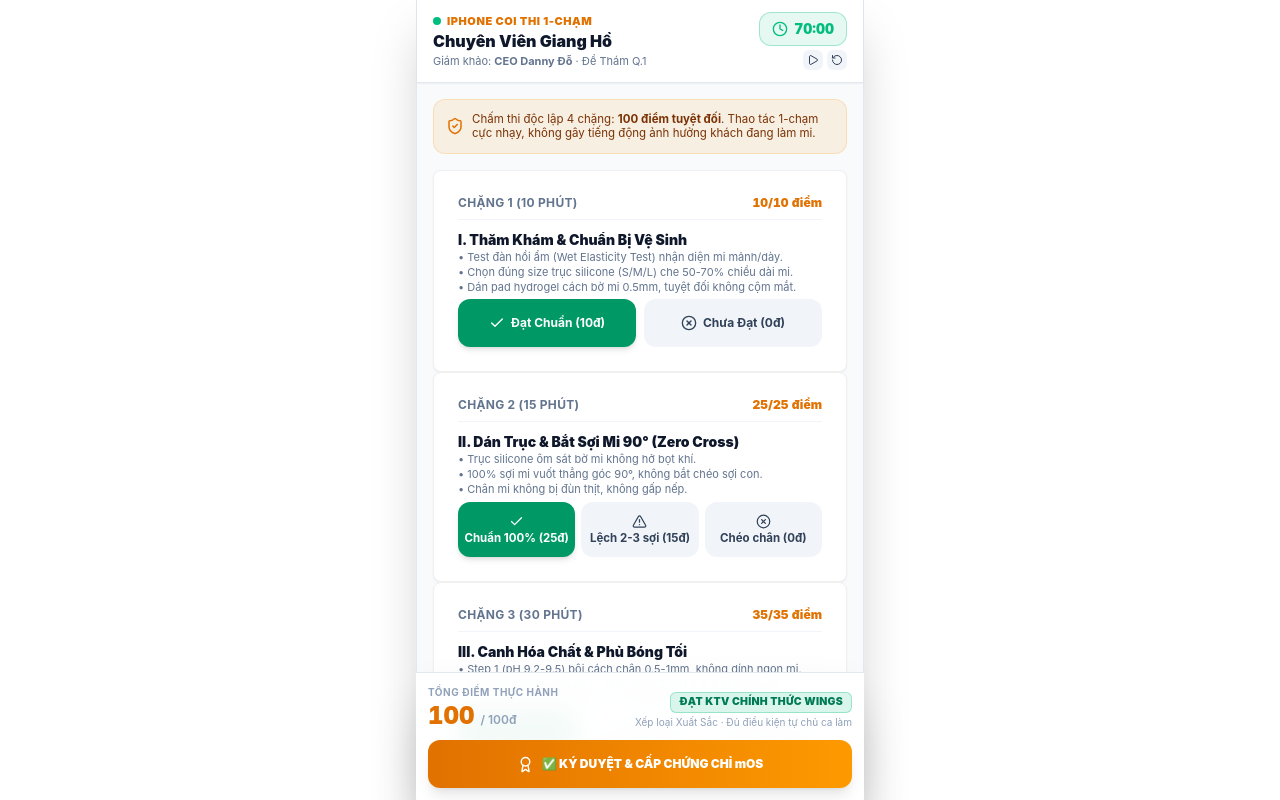
Test case: IphonePracticalExamRubric › allows CEO Danny to sign and approve certificate directly from iPhone view
Note: Click sign button on bottom bar
Click the button with test id "btn-iphone-sign-cert": {"x": 640, "y": 764} [428,740,852,788]
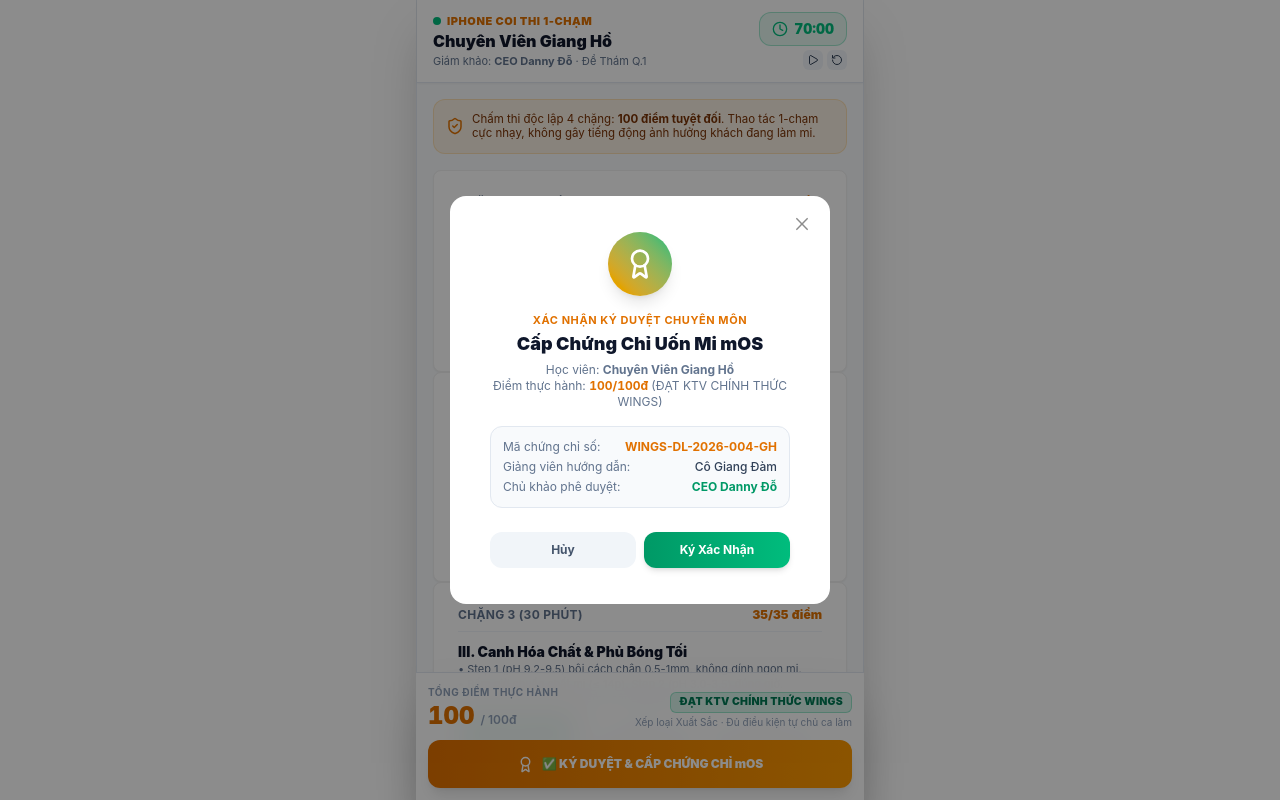
Expected: the text "Xác Nhận Ký Duyệt Chuyên Môn" is shown, [533,313,747,327]
Expected: the text "WINGS-DL-2026-004-GH" is shown, [625,439,777,455]
Note: Confirm sign
Click the button with test id "btn-confirm-sign": {"x": 717, "y": 550} [644,532,790,568]
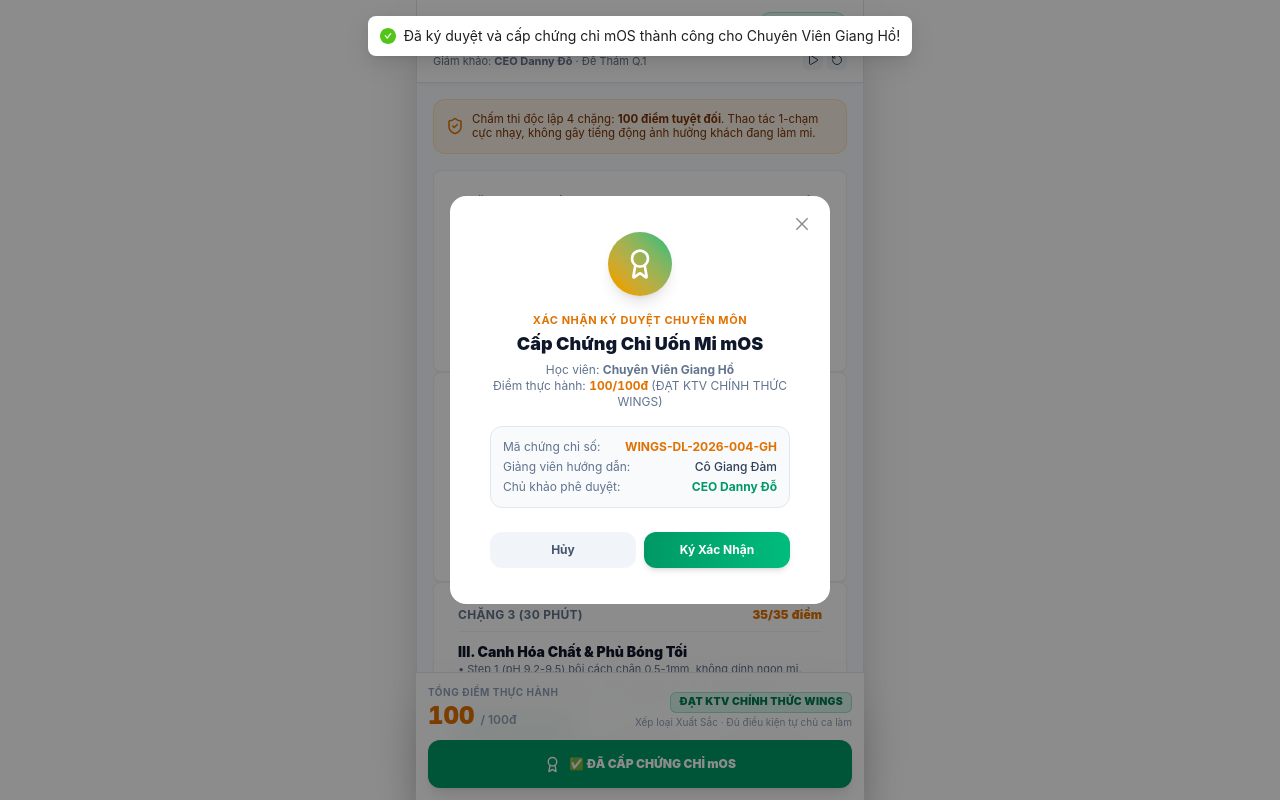
Expected: the text "✅ ĐÃ CẤP CHỨNG CHỈ mOS" is shown, [569,756,736,772]
